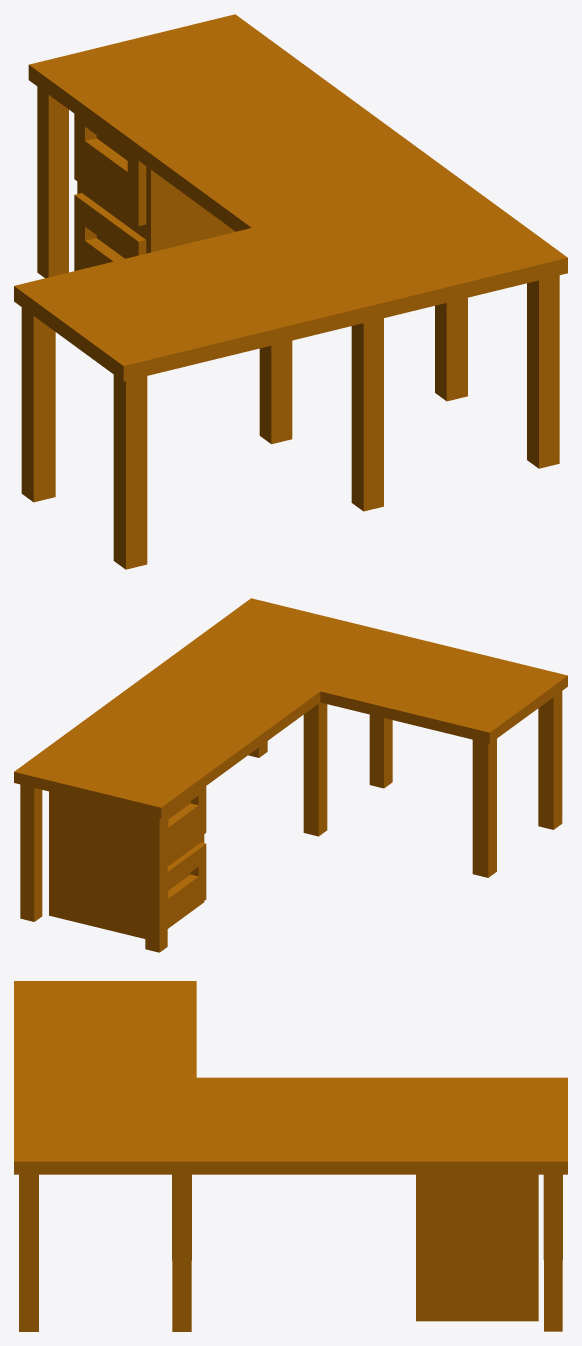
Rendered from office desk.glb.
3 renders of one model, top to bottom at view 1: azimuth 30°, elevation 25°; view 2: azimuth 150°, elevation 25°; view 3: azimuth 270°, elevation 25°, orthographic. The views are drawn at different scales.
Visible parts, largest first — view 1: Office Desk; view 2: Office Desk; view 3: Office Desk.
Part boxes in pixels (x1=…): Office Desk: x1=14, y1=14, x2=567, y2=569; Office Desk: x1=14, y1=598, x2=567, y2=952; Office Desk: x1=14, y1=981, x2=567, y2=1331.
Bounding box in the file's own units: 6.08 × 2.7 × 7.88.
